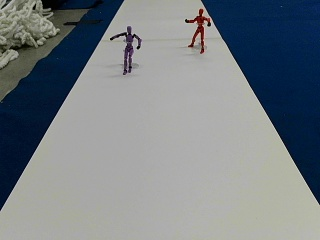pedestrian: (110, 26, 141, 73), (185, 8, 211, 52)
